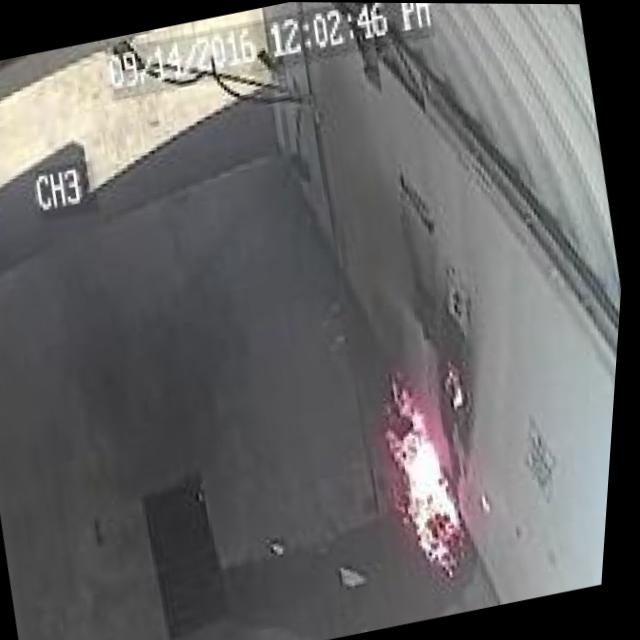fire: (361, 348, 514, 584)
